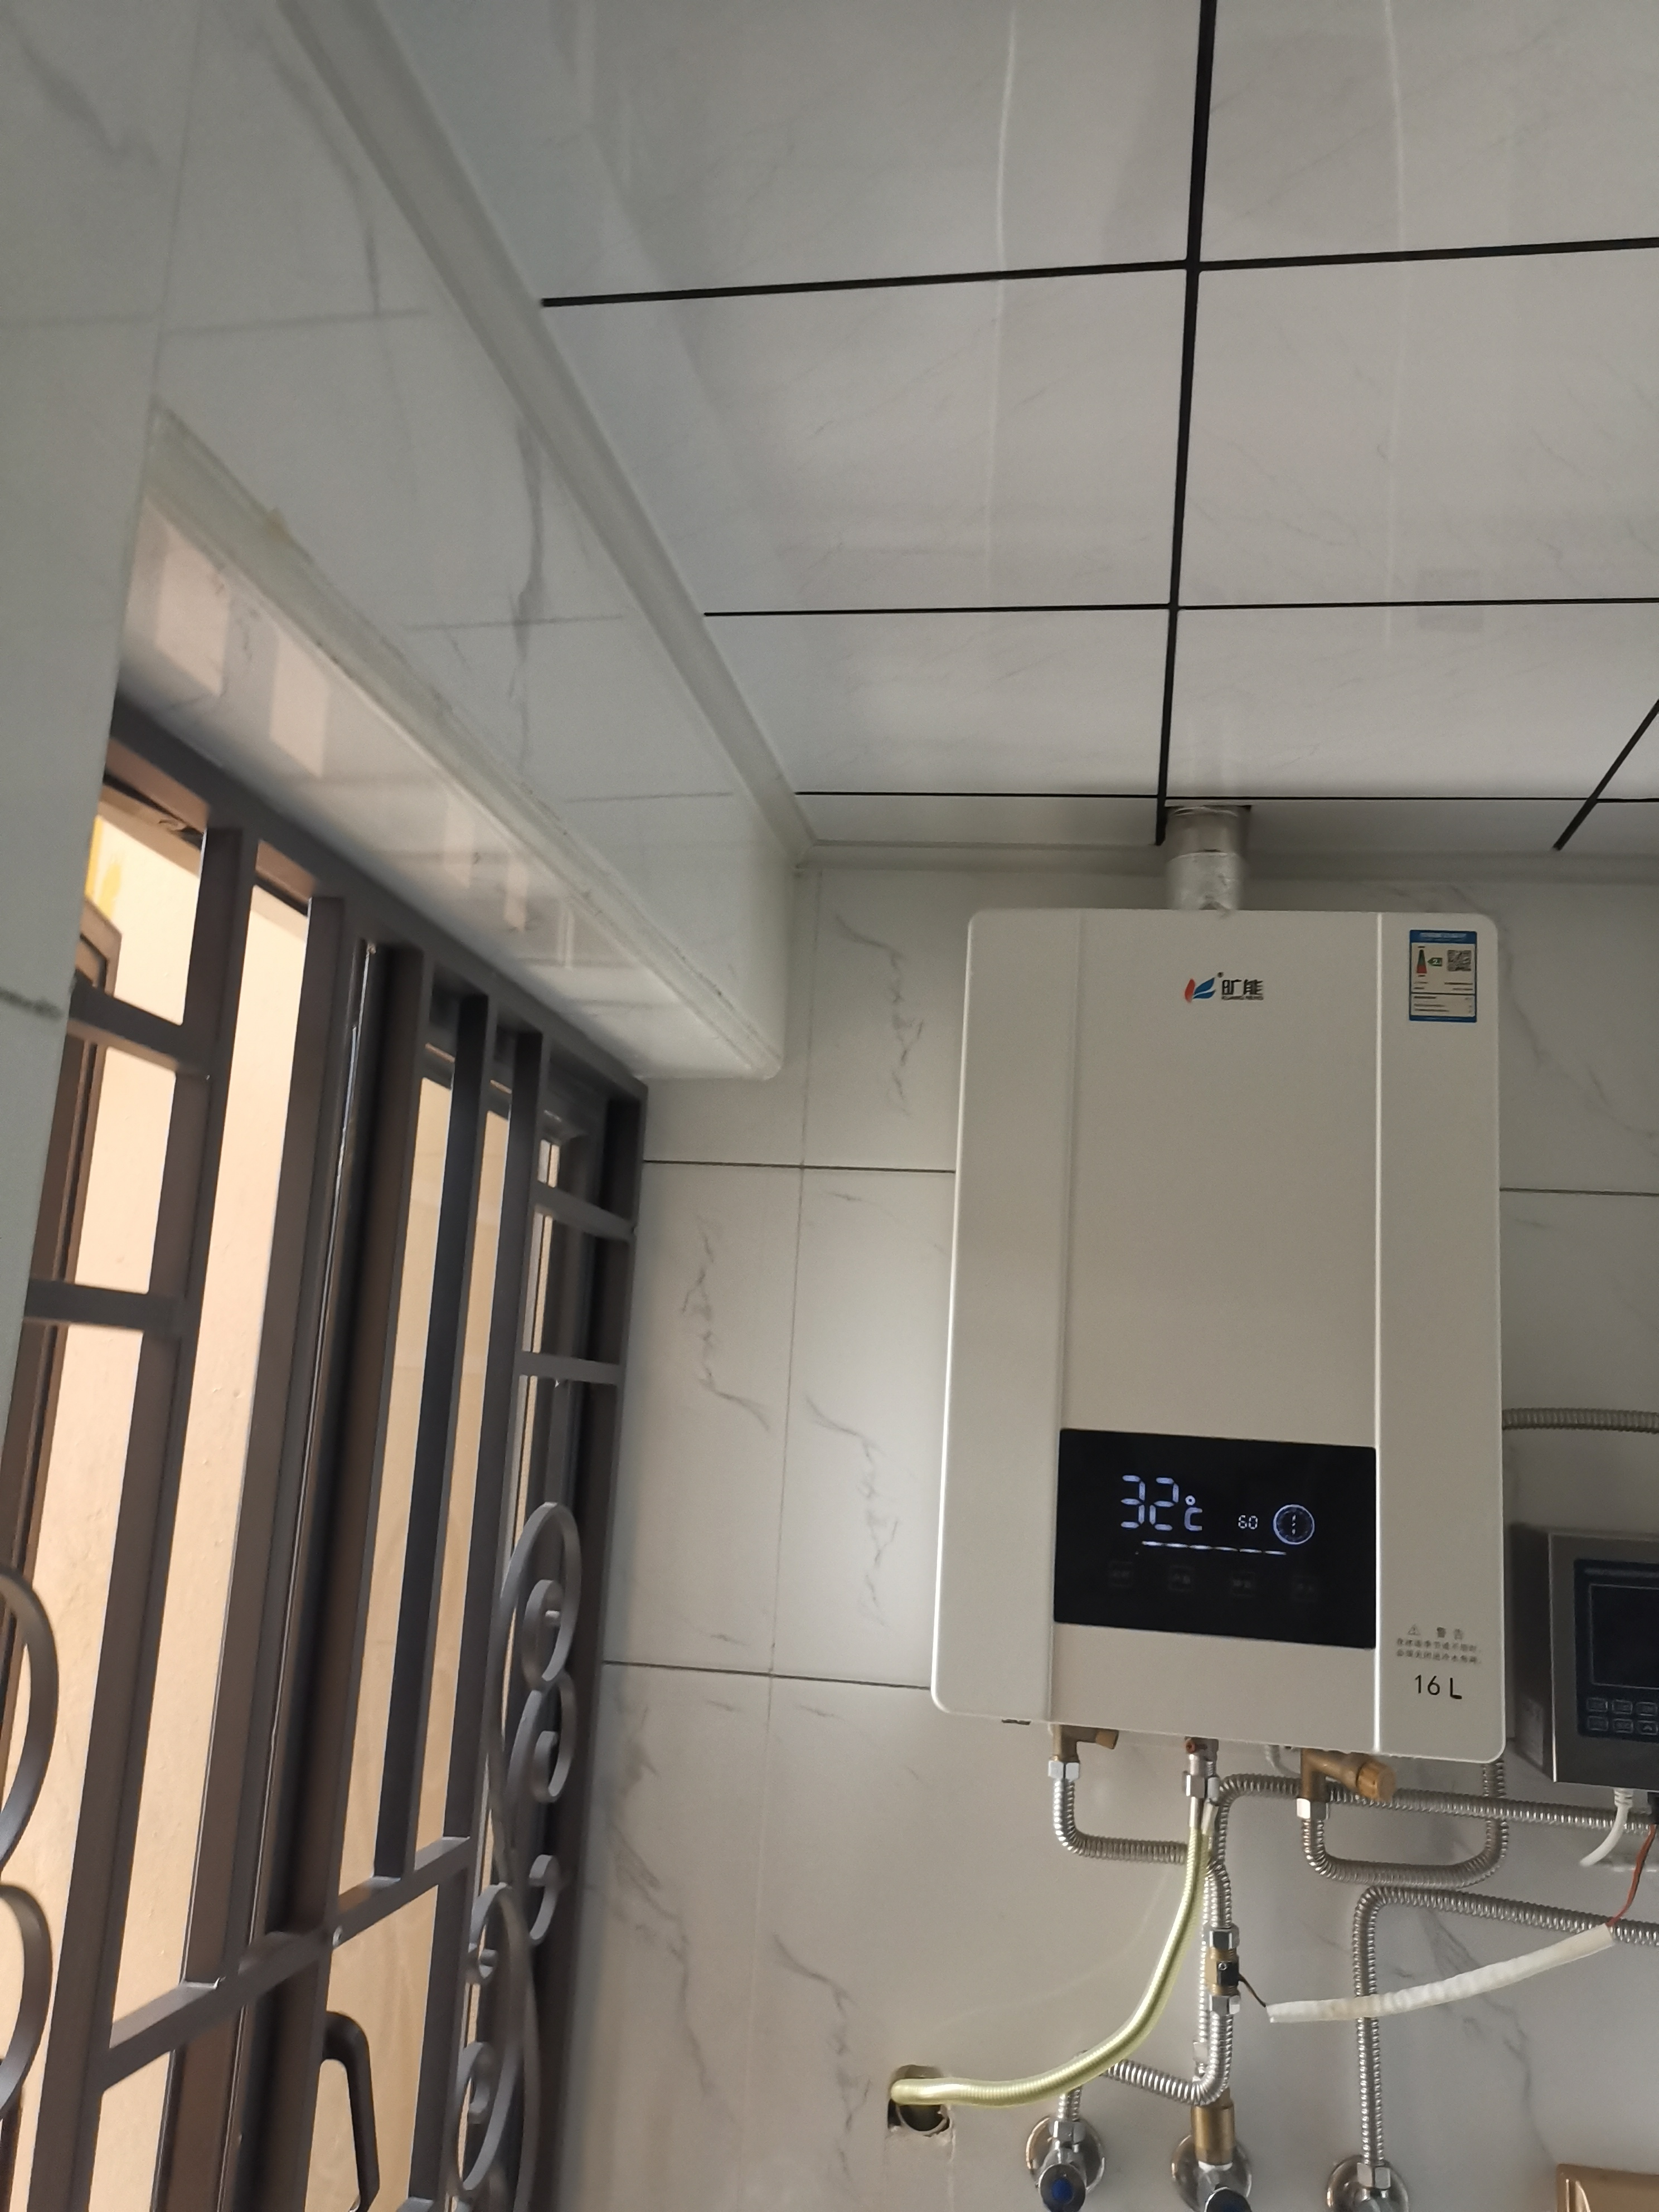loudou: (1175, 963, 1290, 1026)
